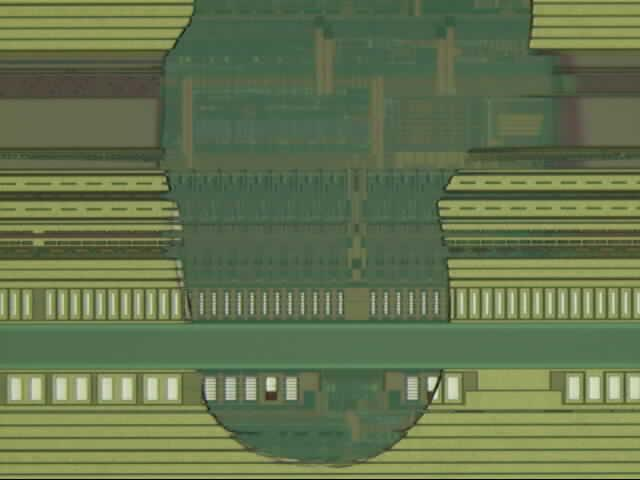BLOCK ETCH: (155, 1, 597, 473)
